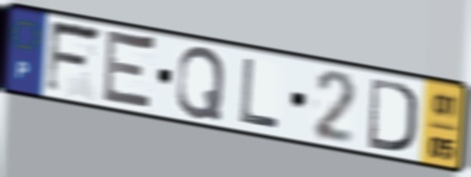2: (312, 68, 358, 148)
D: (366, 75, 420, 156)
E: (99, 25, 160, 116)
F: (43, 18, 106, 97)
L: (238, 55, 282, 132)
Q: (173, 44, 228, 123)
